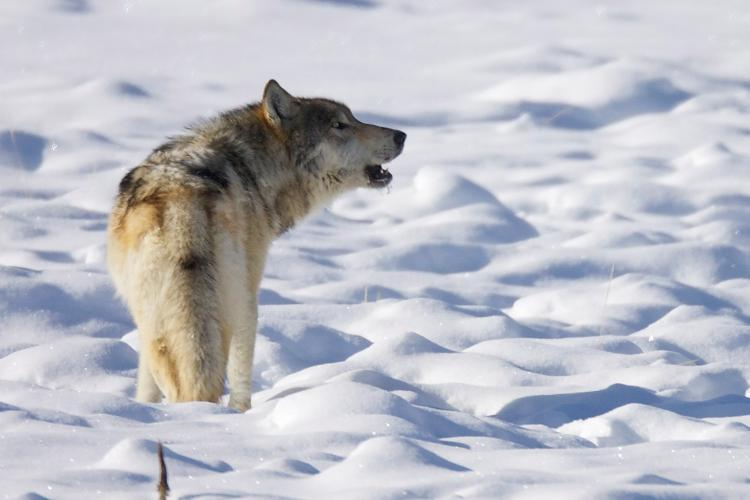Wolf: (102, 74, 407, 413)
